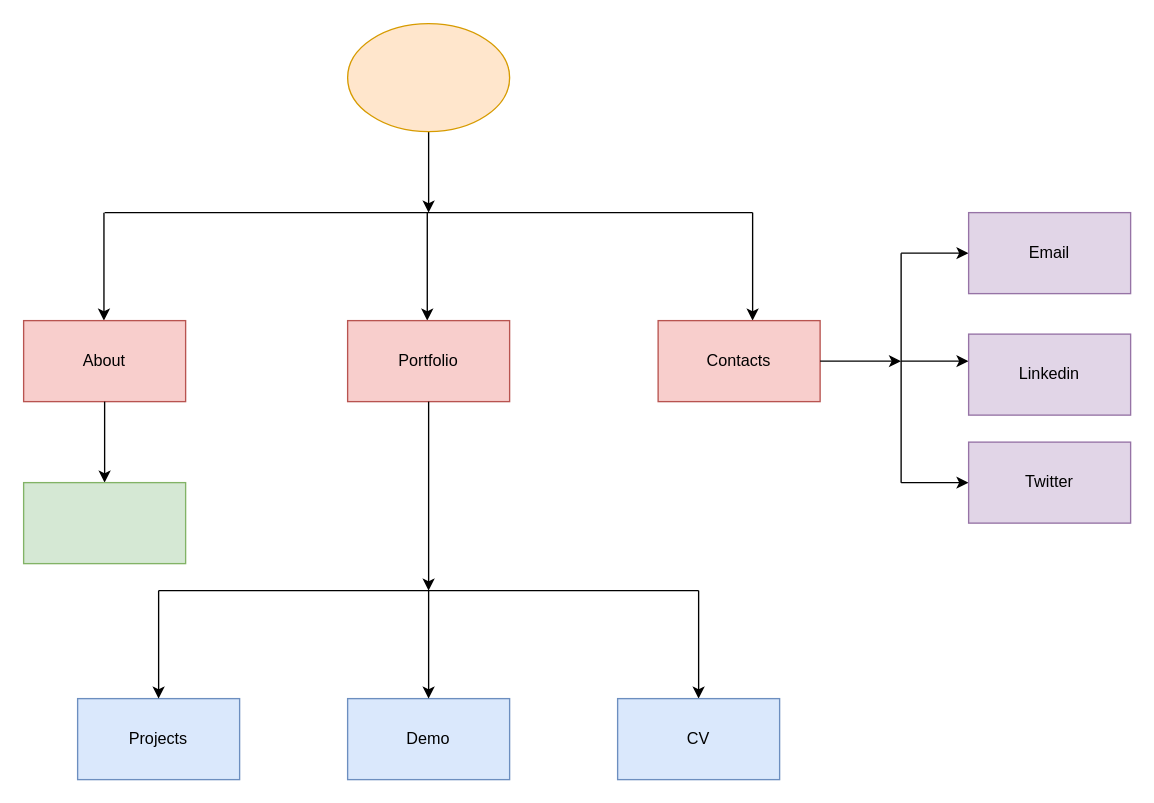
The diagram is 1154 pixels wide and 803 high, and some of its shapes have lost their labels. Each missing label, with the box of its shape:
Bio: (22, 481, 186, 564)
Home: (346, 22, 510, 132)
